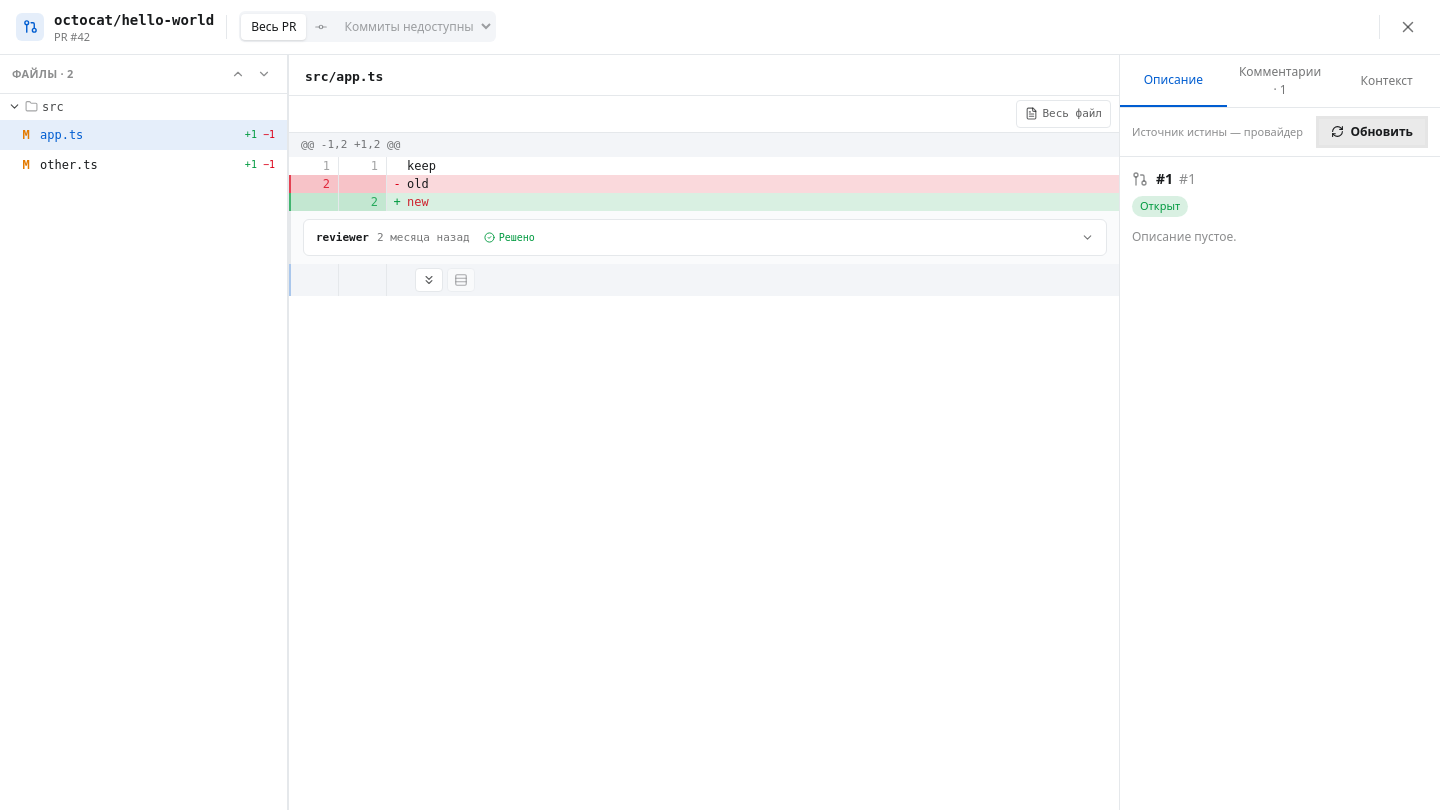
Review workspace — inline comments › collapses a resolved comment and expands it on click
Expected: the text "hidden until expanded" is not shown
Expected: the text "Решено" is shown, [484,232,535,243]
Click the button named "Развернуть комментарий": (1088, 238) [1081,231,1094,244]
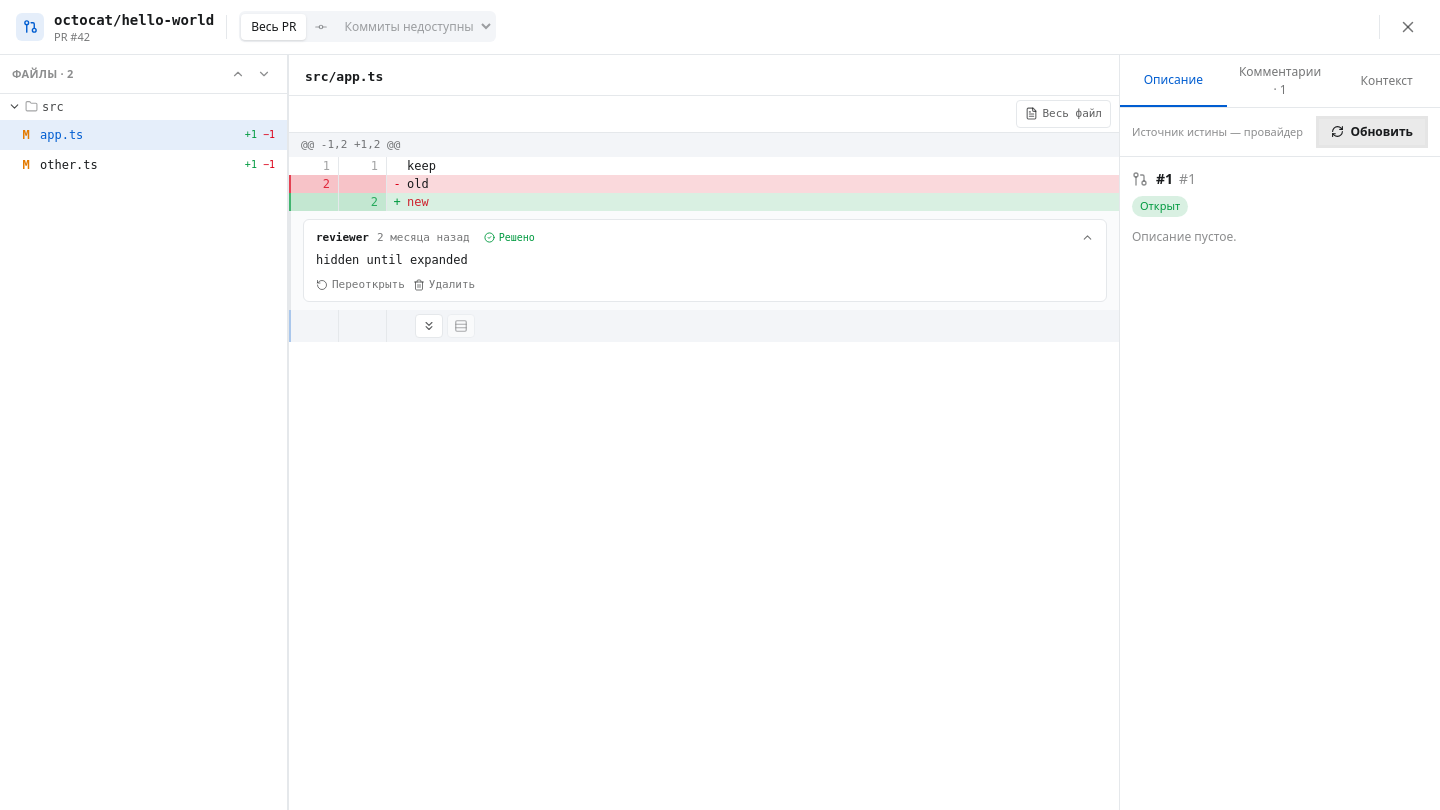
Expected: the text "hidden until expanded" is shown, [316,253,468,267]
